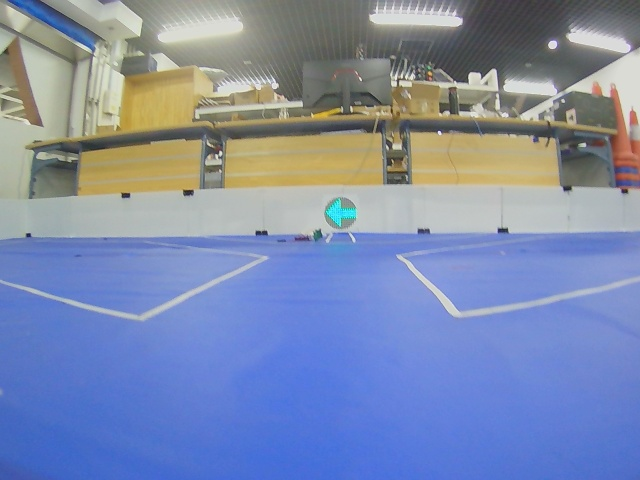left_green: (325, 197, 357, 229)
